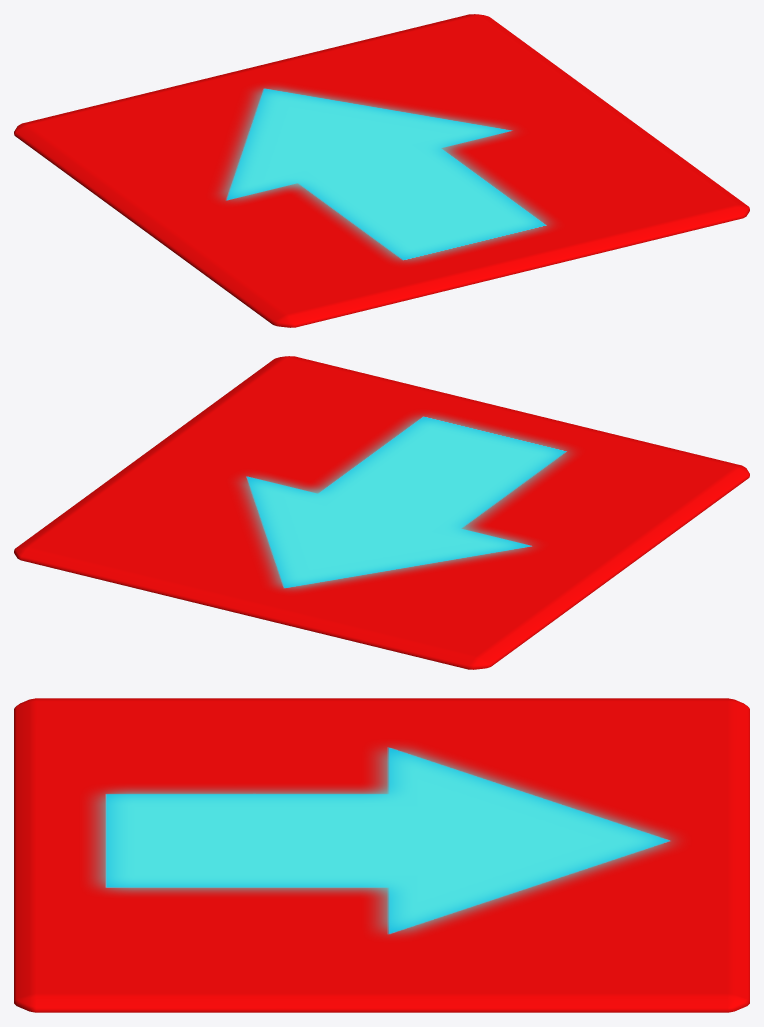
File: SpeedPad.fbx
The picture shows the model from 3 angles, top to bottom: view 1: azimuth 30°, elevation 25°; view 2: azimuth 150°, elevation 25°; view 3: azimuth 270°, elevation 25°; orthographic projection. The views are drawn at different scales.
Parts seen in each view (by area): view 1: SpeedBlock; view 2: SpeedBlock; view 3: SpeedBlock.
Part boxes in pixels (left/top/right/bottom): SpeedBlock: left=14, top=14, right=749, bottom=327; SpeedBlock: left=14, top=356, right=749, bottom=669; SpeedBlock: left=14, top=698, right=749, bottom=1012.
Size of the model in its own units: 0.5418 by 0.00798 by 0.5418.
